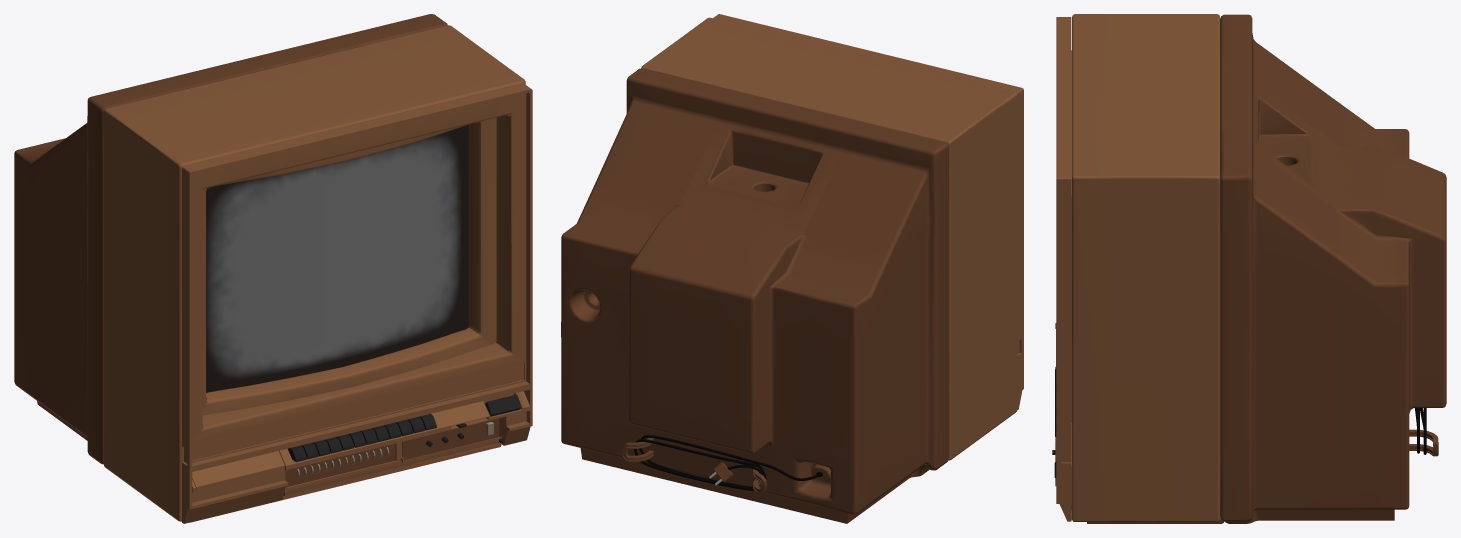
The model's file is screen_low.glb.
The picture shows the model from 3 angles, left to right: view 1: azimuth 30°, elevation 25°; view 2: azimuth 150°, elevation 25°; view 3: azimuth 270°, elevation 25°; orthographic projection. The views are drawn at different scales.
Parts seen in each view (by area): view 1: TV.001, TV.002, TV.003, SCREEN, TV.004, TV.005, TV, TV.007, TV.006; view 2: TV.004, TV.002, TV.001, BezierCurve, TV.008, TV.009; view 3: TV.004, TV.002, TV.001.
Boxes of the visible parts, x1,y1,x2,y2 form: TV.001: [182, 83, 532, 523]; TV.002: [103, 25, 525, 522]; TV.003: [206, 124, 469, 392]; SCREEN: [208, 138, 458, 375]; TV.004: [14, 14, 447, 464]; TV.005: [192, 391, 530, 492]; TV: [283, 394, 521, 495]; TV.007: [285, 443, 395, 487]; TV.006: [402, 418, 499, 459]; TV.004: [561, 68, 948, 523]; TV.002: [641, 17, 1017, 460]; TV.001: [713, 14, 1023, 409]; BezierCurve: [634, 435, 822, 490]; TV.008: [621, 438, 766, 493]; TV.009: [709, 462, 830, 485]; TV.004: [1220, 14, 1446, 523]; TV.002: [1072, 14, 1223, 523]; TV.001: [1056, 17, 1071, 521].
Size of the model in its own units: 752 by 771 by 764.
Materials: 8 (8 with a texture image).
